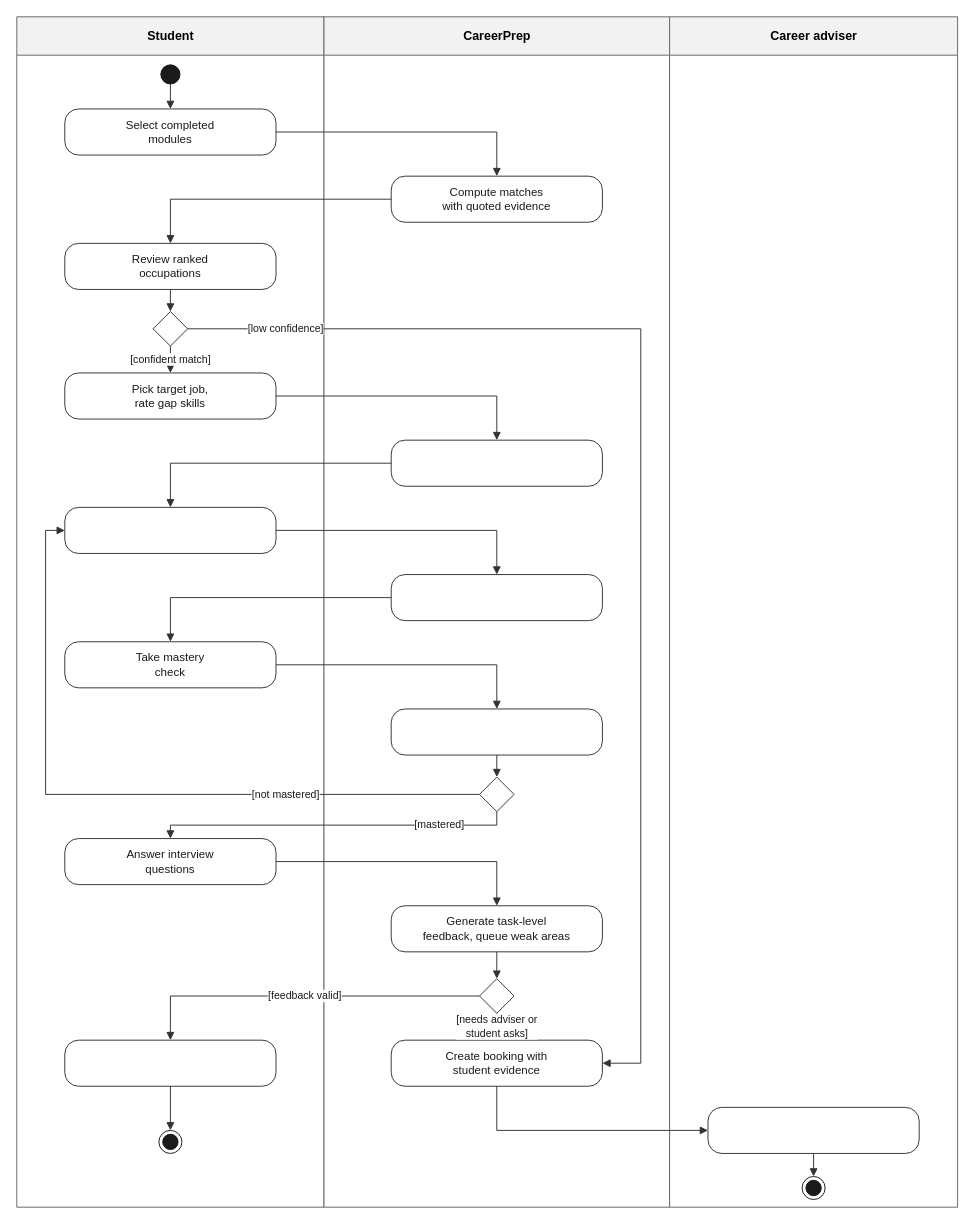
Image size: 974x1224. Some labels were removed from this diagram. Here are the shapes that lost their labels. From the top down, the centre of each, then its label:
(x=496, y=462): Build daily lesson plan
(x=170, y=529): Do lesson, ask for hints if stuck
(x=496, y=597): Schedule next review (FSRS)
(x=496, y=731): Mark against answer key (no AI)
(x=170, y=1062): Review feedback
(x=813, y=1129): Accept or decline; later complete or cancel
